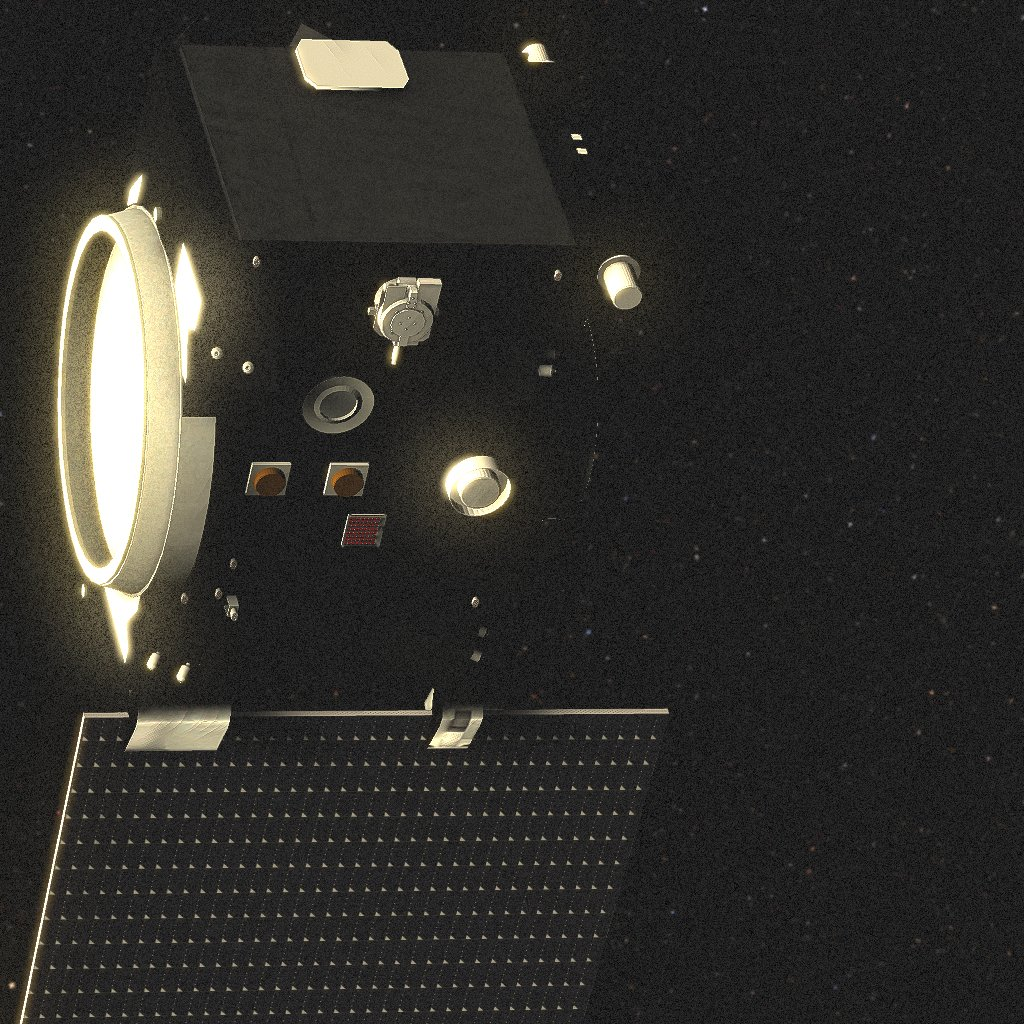proba_3_csc: (20, 18, 669, 1024)
